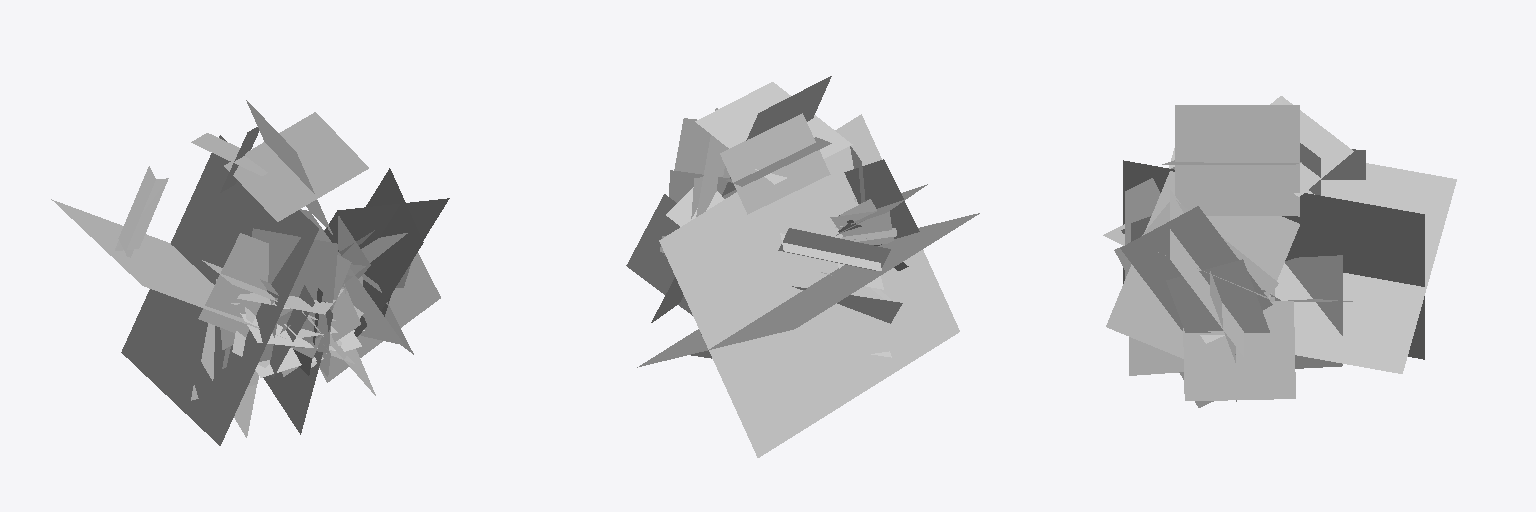
Rendered from billboards_lod2.obj.
The picture shows the model from 3 angles: view 1: azimuth 30°, elevation 25°; view 2: azimuth 150°, elevation 25°; view 3: azimuth 270°, elevation 25°; orthographic projection.
Bounding box in the file's own units: 6.84 × 6.02 × 6.42.